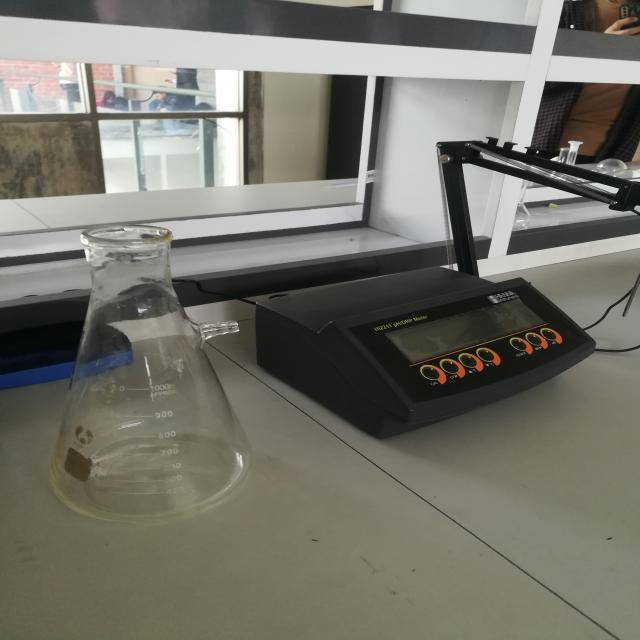Conical_Flask: (24, 182, 275, 540)
